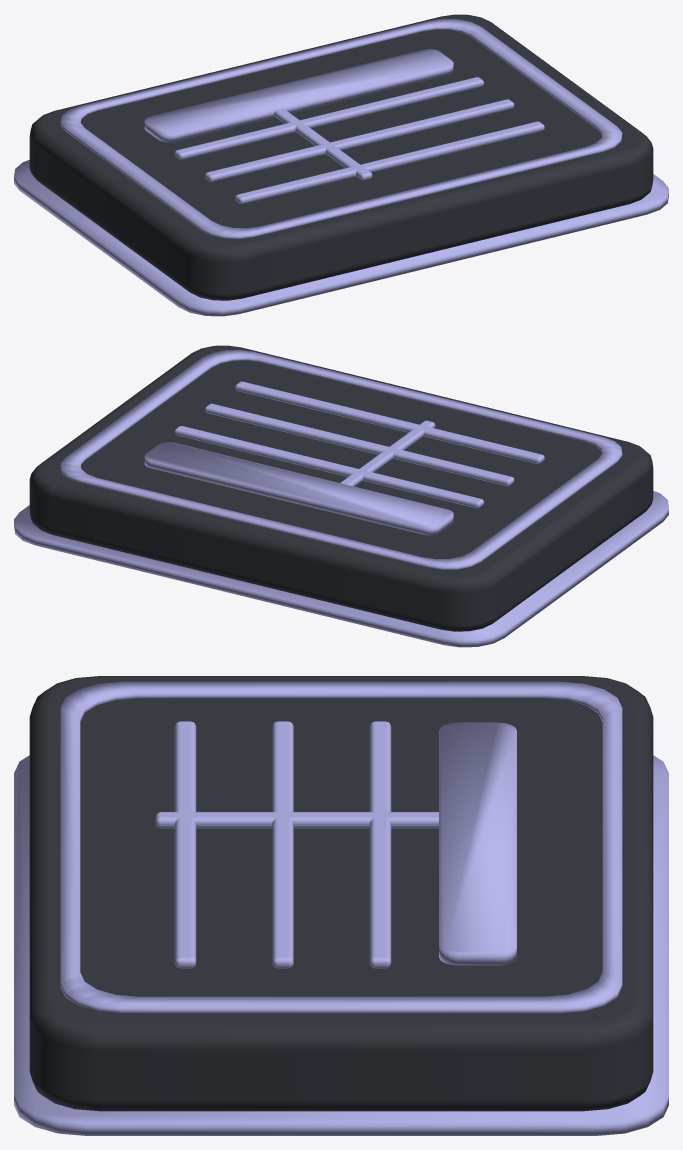
The model's file is table.glb.
3 views of the same model, one above another, from view 1: azimuth 30°, elevation 25°; view 2: azimuth 150°, elevation 25°; view 3: azimuth 270°, elevation 25° (orthographic). The views are drawn at different scales.
Parts seen in each view (by area): view 1: module, edge, rim, head, line, line.001, line.002, line.003; view 2: module, edge, rim, head, line.002, line.001, line, line.003; view 3: module, edge, rim, head, line, line.002, line.001, line.003.
Boxes of the visible parts, left/top/right/bottom form: module: left=29, top=14, right=653, bottom=300; edge: left=60, top=18, right=622, bottom=238; rim: left=14, top=160, right=668, bottom=316; head: left=144, top=49, right=453, bottom=142; line: left=174, top=77, right=484, bottom=159; line.001: left=205, top=99, right=514, bottom=181; line.002: left=235, top=121, right=544, bottom=203; line.003: left=274, top=109, right=372, bottom=180; module: left=29, top=345, right=653, bottom=631; edge: left=60, top=349, right=622, bottom=569; rim: left=14, top=491, right=668, bottom=647; head: left=144, top=442, right=453, bottom=535; line.002: left=235, top=381, right=544, bottom=463; line.001: left=205, top=403, right=514, bottom=486; line: left=174, top=426, right=484, bottom=508; line.003: left=340, top=420, right=435, bottom=486; module: left=29, top=676, right=653, bottom=1111; edge: left=60, top=681, right=622, bottom=1013; rim: left=14, top=755, right=668, bottom=1135; head: left=439, top=722, right=516, bottom=965; line: left=369, top=721, right=391, bottom=968; line.002: left=174, top=721, right=196, bottom=968; line.001: left=272, top=721, right=293, bottom=968; line.003: left=155, top=812, right=438, bottom=828.
Size of the model in its own units: 0.924 by 0.122 by 0.672.
